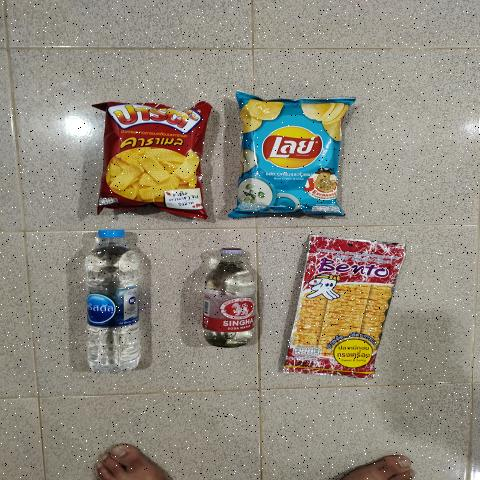bento_red: (302, 235, 387, 366)
crystal: (85, 226, 144, 374)
lay_blue: (237, 96, 343, 221)
party_red: (103, 104, 198, 206)
singha_soda: (205, 248, 258, 350)
